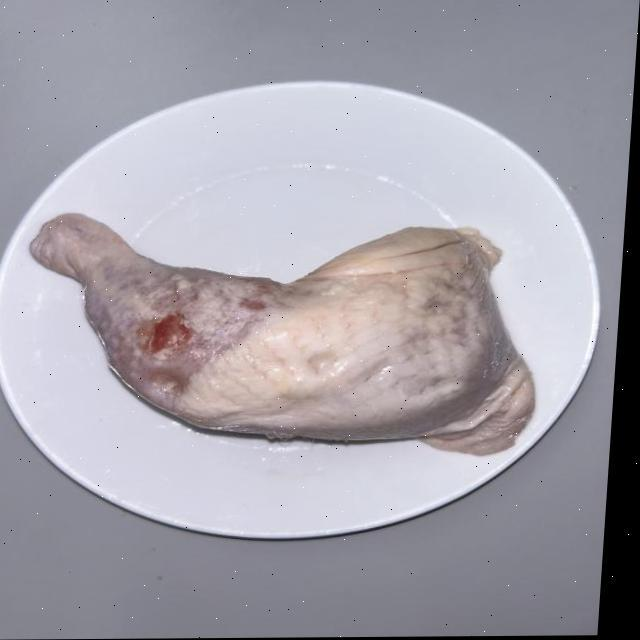quater: (42, 204, 526, 455)
